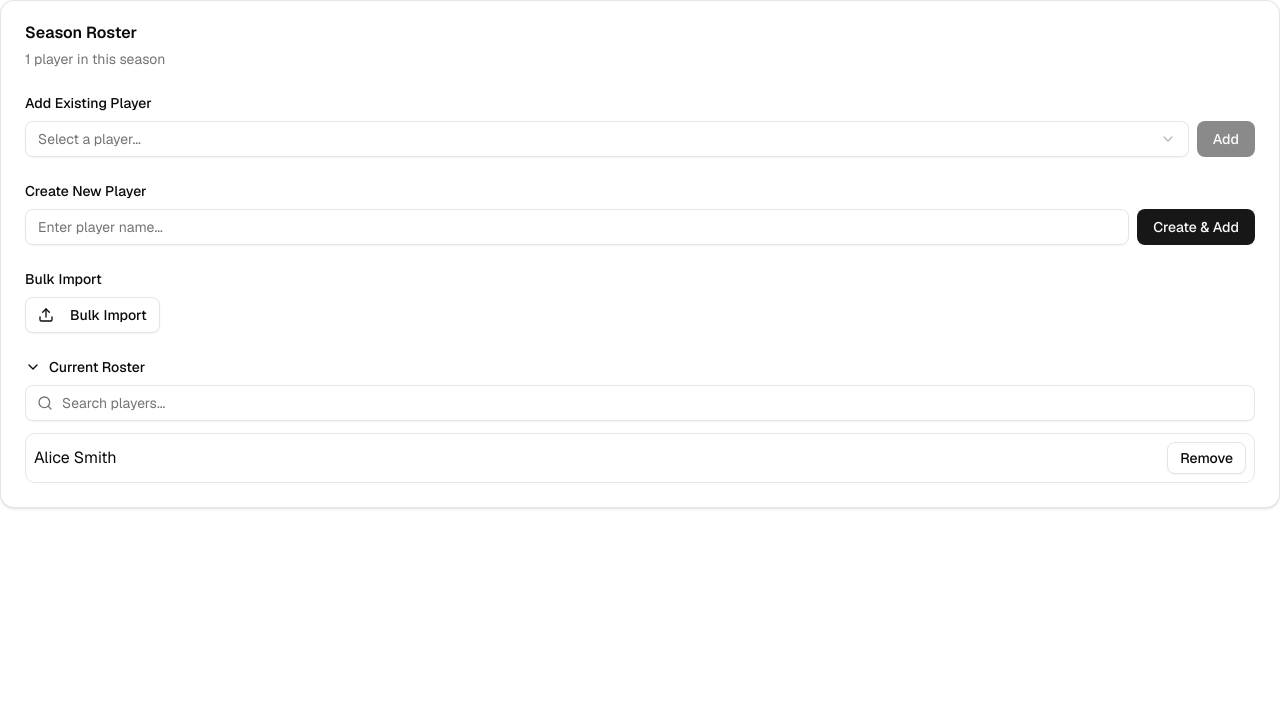
Scenario: RosterManager - Collapsible Roster › collapsed state shows singular 'player' for single player
This screenshot has width=1280, height=720.
Click to collapse
Click the button with test id "roster-toggle".
click(97, 367)  # box [25,357,1255,377]
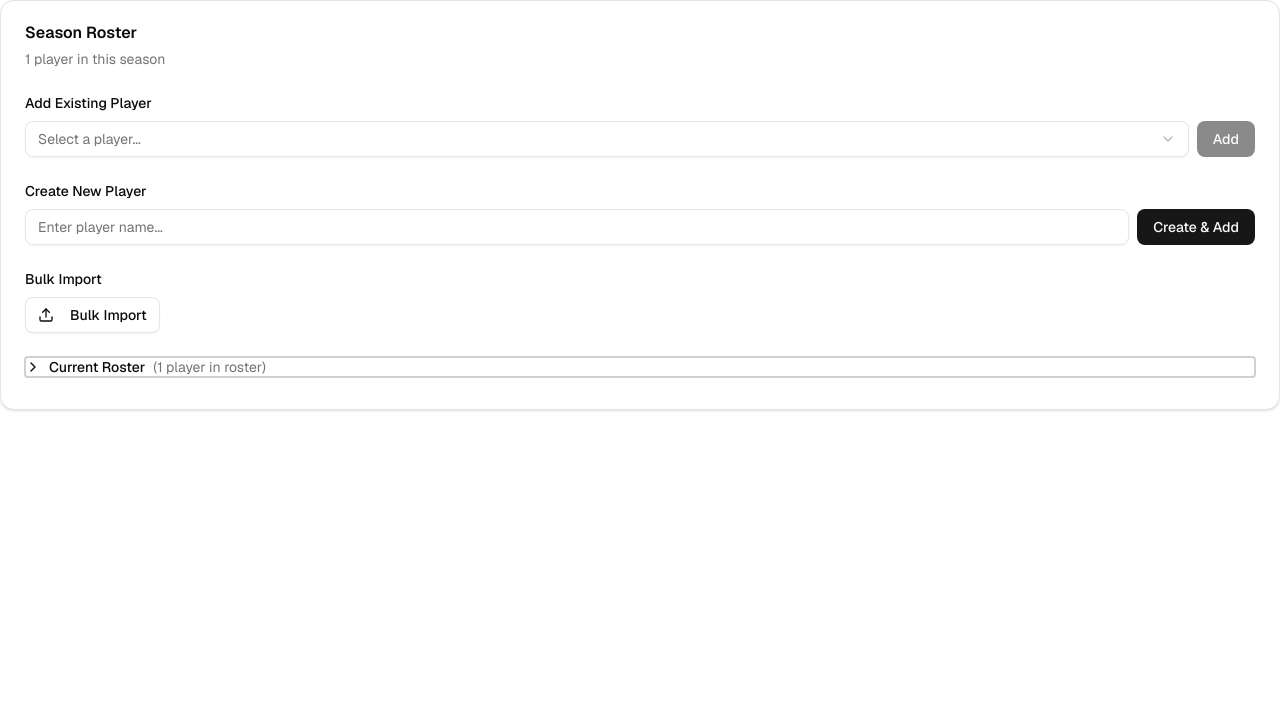
Expected: the text "(1 player in roster)" is shown, [153,358,266,376]
